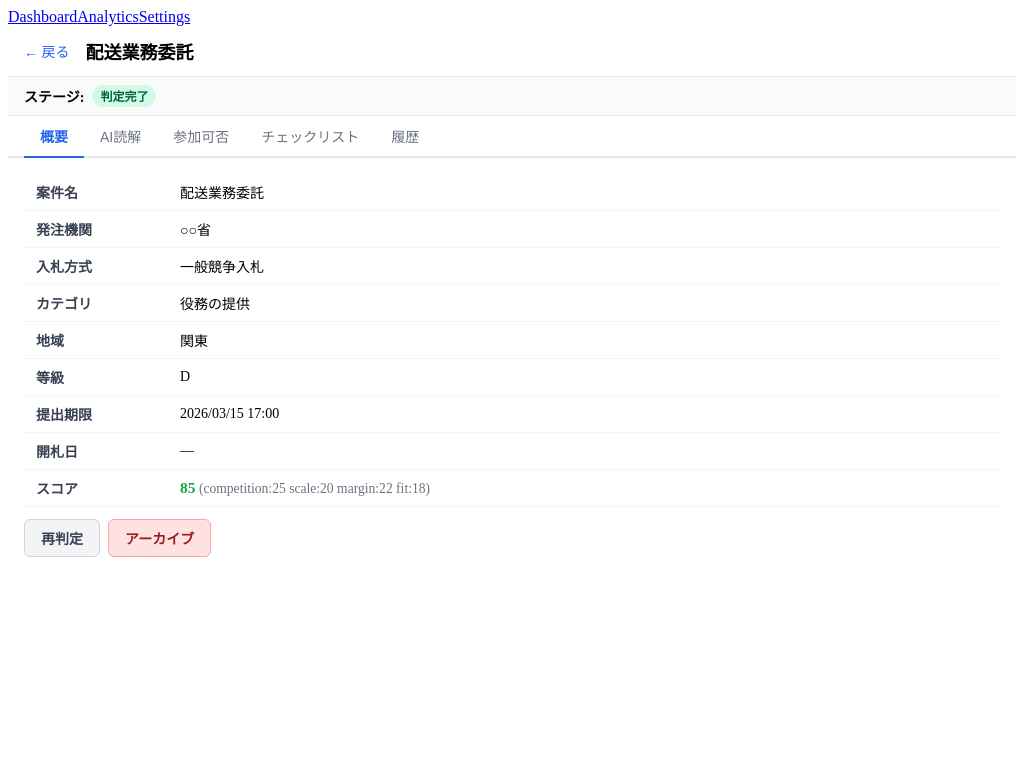
Test: EligibilityTab — VerdictBadge › shows eligible verdict badge
Click the button with test id "tab-eligibility": (201, 137) [157,116,245,158]
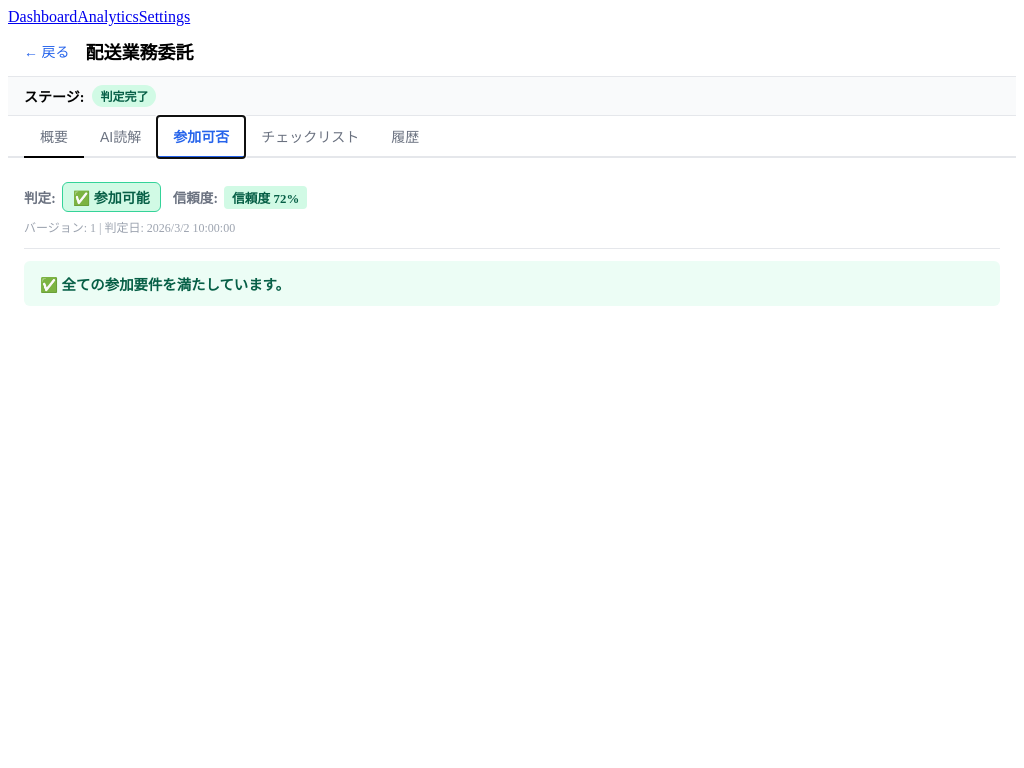
Expected: the text with test id "verdict-badge" shows "参加可能", [94,191,150,206]
